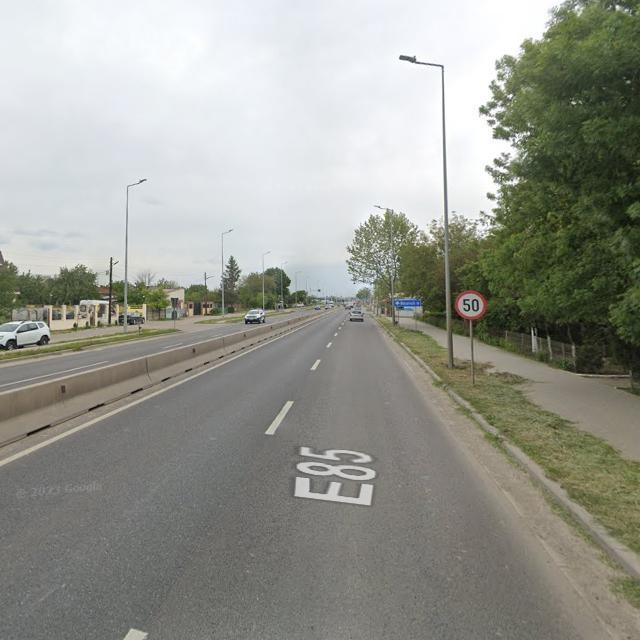forb_speed_over_50: (457, 290, 487, 322)
